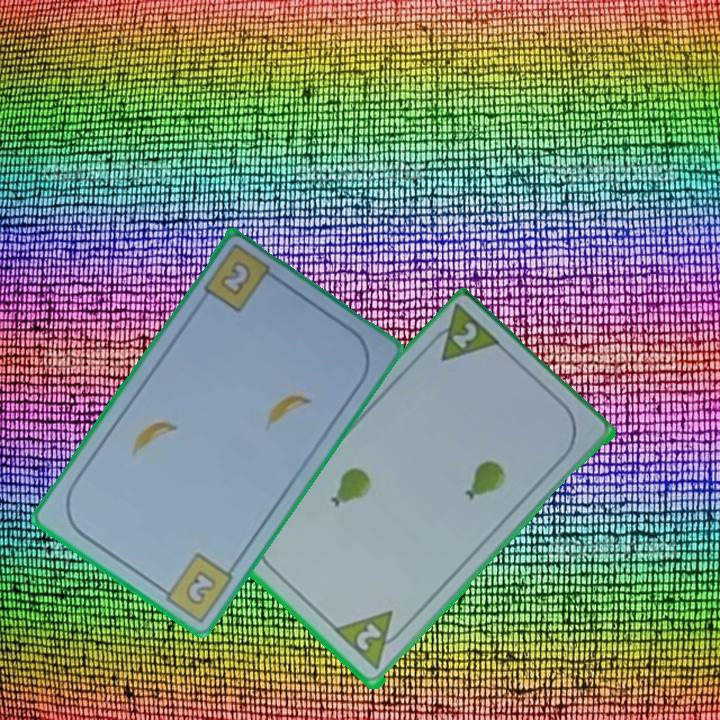2b: (153, 549, 237, 625), (216, 257, 255, 300)
2p: (352, 620, 385, 654), (448, 319, 481, 353)
